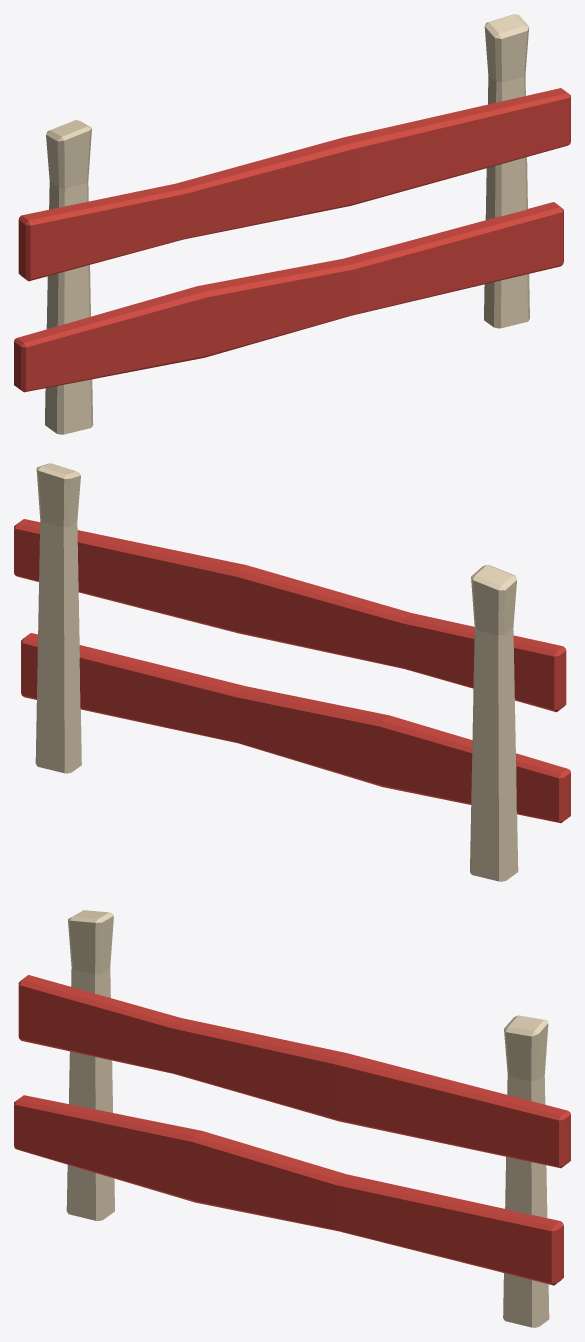
Rendered from fence_g.gltf.
The picture shows the model from 3 angles, top to bottom: view 1: azimuth 30°, elevation 25°; view 2: azimuth 150°, elevation 25°; view 3: azimuth 330°, elevation 25°; orthographic projection.
Parts seen in each view (by area): view 1: fence_g001; view 2: fence_g001; view 3: fence_g001.
Boxes of the visible parts, box(x1,y1,x2,y2) form: fence_g001: box(14, 14, 570, 434); fence_g001: box(14, 463, 570, 881); fence_g001: box(14, 910, 570, 1327).
Bounding box in the file's own units: 1.44 × 0.7529 × 0.1282.
1 material, 1 textured.
